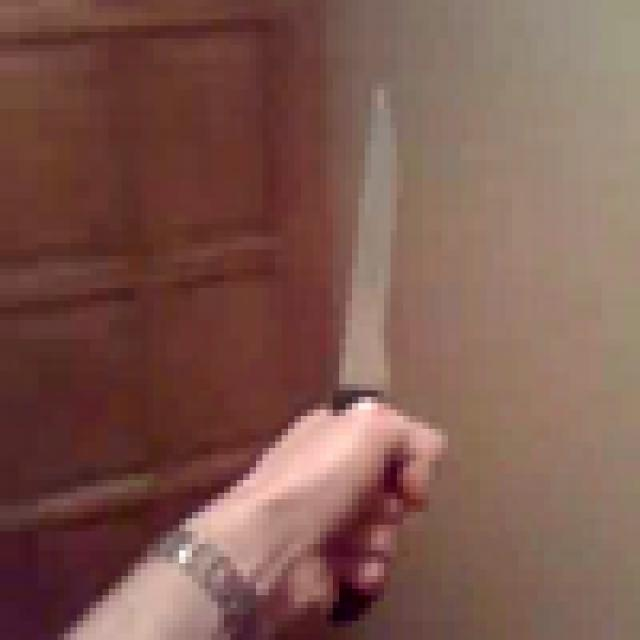Knife: (269, 58, 493, 512)
